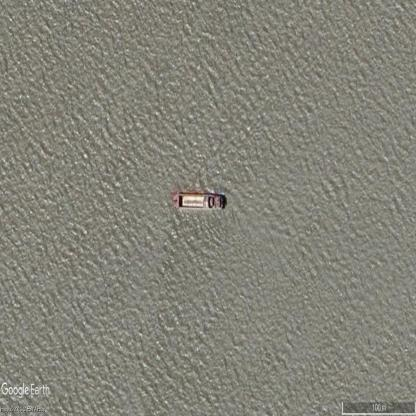ship: (172, 191, 227, 210)
